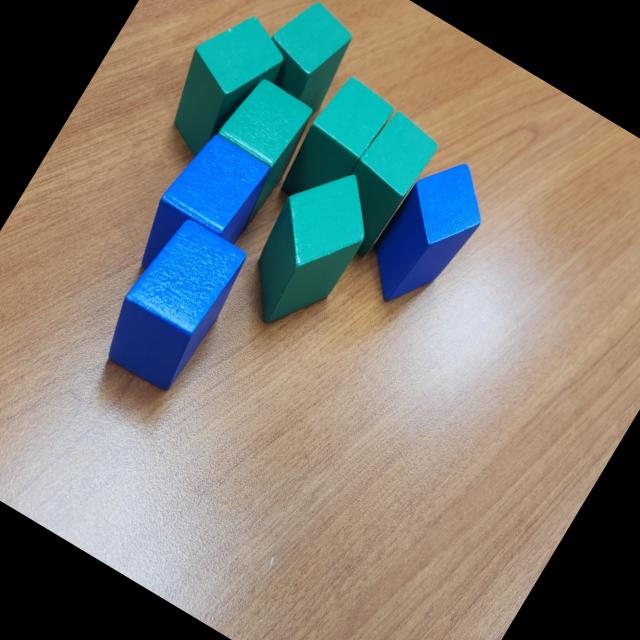blue: (92, 210, 255, 398), (125, 125, 281, 303), (352, 146, 504, 325)
green: (226, 150, 392, 344), (146, 0, 298, 173), (181, 70, 323, 234), (316, 106, 444, 264), (272, 72, 398, 222), (247, 0, 366, 117)
